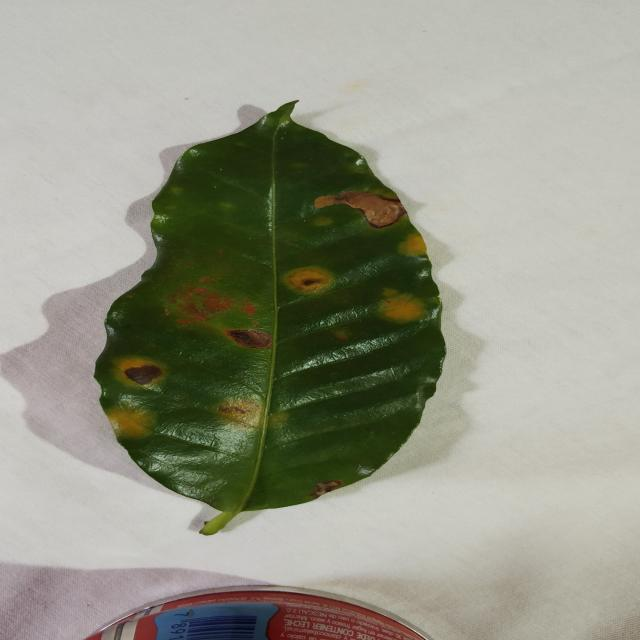Enfermedad-Roya: (93, 101, 447, 536)
